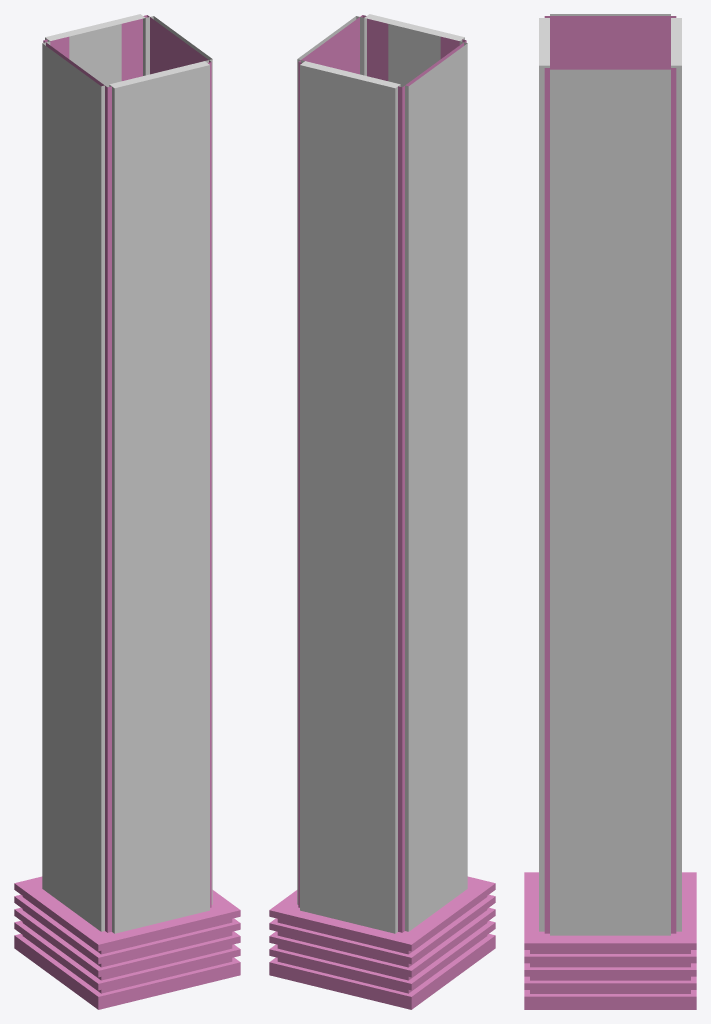
Rendered from PillarUV.fbx.
3 renders of one model, left to right at view 1: azimuth 30°, elevation 25°; view 2: azimuth 150°, elevation 25°; view 3: azimuth 270°, elevation 25°, orthographic. The views are drawn at different scales.
Parts seen in each view (by area): view 1: Cube.008; view 2: Cube.008; view 3: Cube.008.
Boxes of the visible parts, bbox=[...] form: Cube.008: bbox=[14, 14, 240, 1009]; Cube.008: bbox=[269, 14, 495, 1009]; Cube.008: bbox=[524, 14, 696, 1009].
Size of the model in its own units: 114 by 701 by 117.
